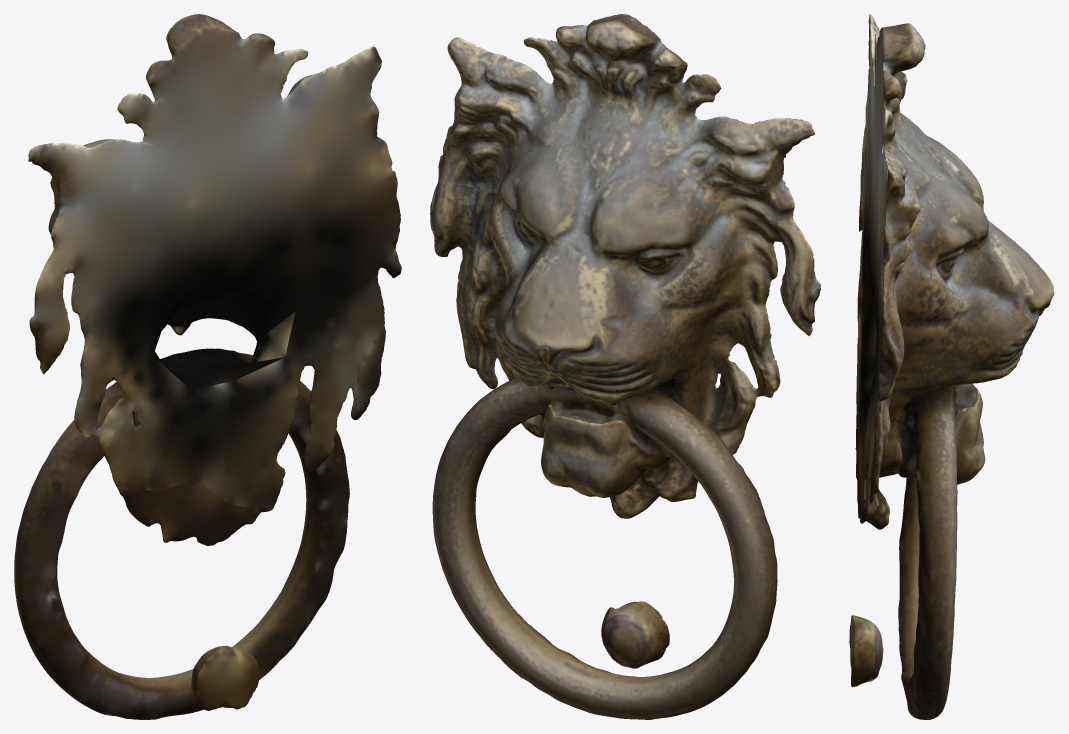
The model's file is lion_36d3c4f4.glb.
The picture shows the model from 3 angles, left to right: view 1: azimuth 30°, elevation 25°; view 2: azimuth 150°, elevation 25°; view 3: azimuth 270°, elevation 25°; orthographic projection. The views are drawn at different scales.
Visible parts, largest first — view 1: meshNode; view 2: meshNode; view 3: meshNode.
Boxes of the visible parts, bbox=[...] form: meshNode: bbox=[14, 14, 401, 719]; meshNode: bbox=[430, 14, 820, 719]; meshNode: bbox=[849, 14, 1054, 719].
Size of the model in its own units: 0.1831 by 0.3219 by 0.0884.
1 material, 1 textured.
